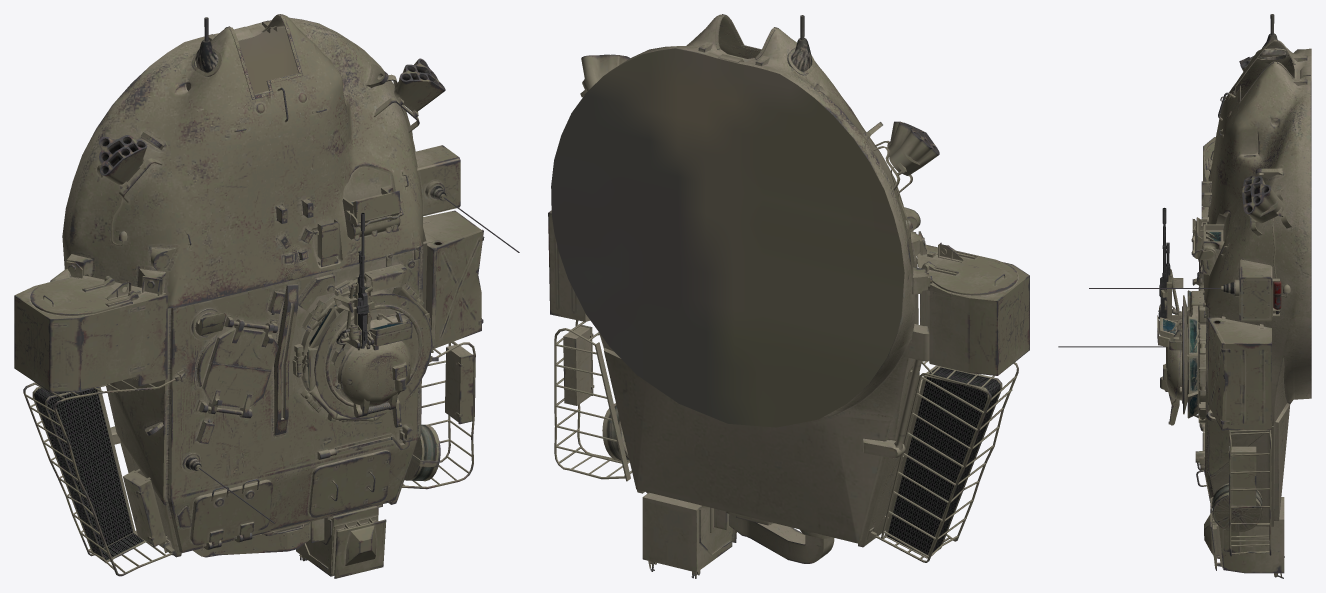
File: Turret_01.glb
3 views of the same model, side by side, from view 1: azimuth 30°, elevation 25°; view 2: azimuth 150°, elevation 25°; view 3: azimuth 270°, elevation 25° (orthographic). The views are drawn at different scales.
Parts seen in each view (by area): view 1: set_0_group_0; view 2: set_0_group_0; view 3: set_0_group_0.
Part boxes in pixels (box(x1,y1,x2,y2)): set_0_group_0: box(14, 14, 519, 578); set_0_group_0: box(548, 14, 1029, 578); set_0_group_0: box(1058, 14, 1311, 578).
Size of the model in its own units: 3.54 by 4.38 by 1.99.
Materials: 1 (1 with a texture image).
